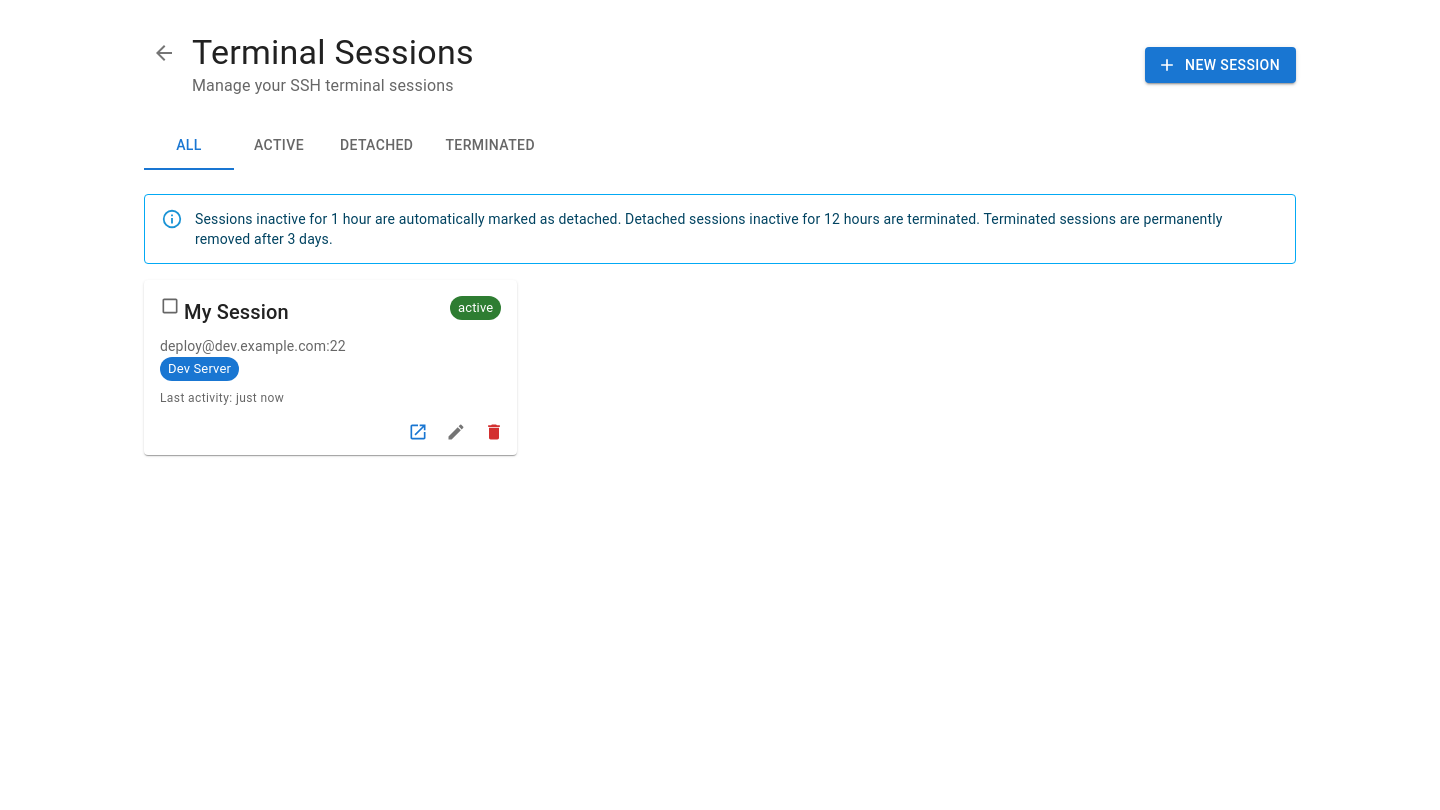
SessionsPage › Terminate session › should show error snackbar when termination fails
Click the button with test id "DeleteIcon". click: (494, 432)
box: [479,417,509,447]
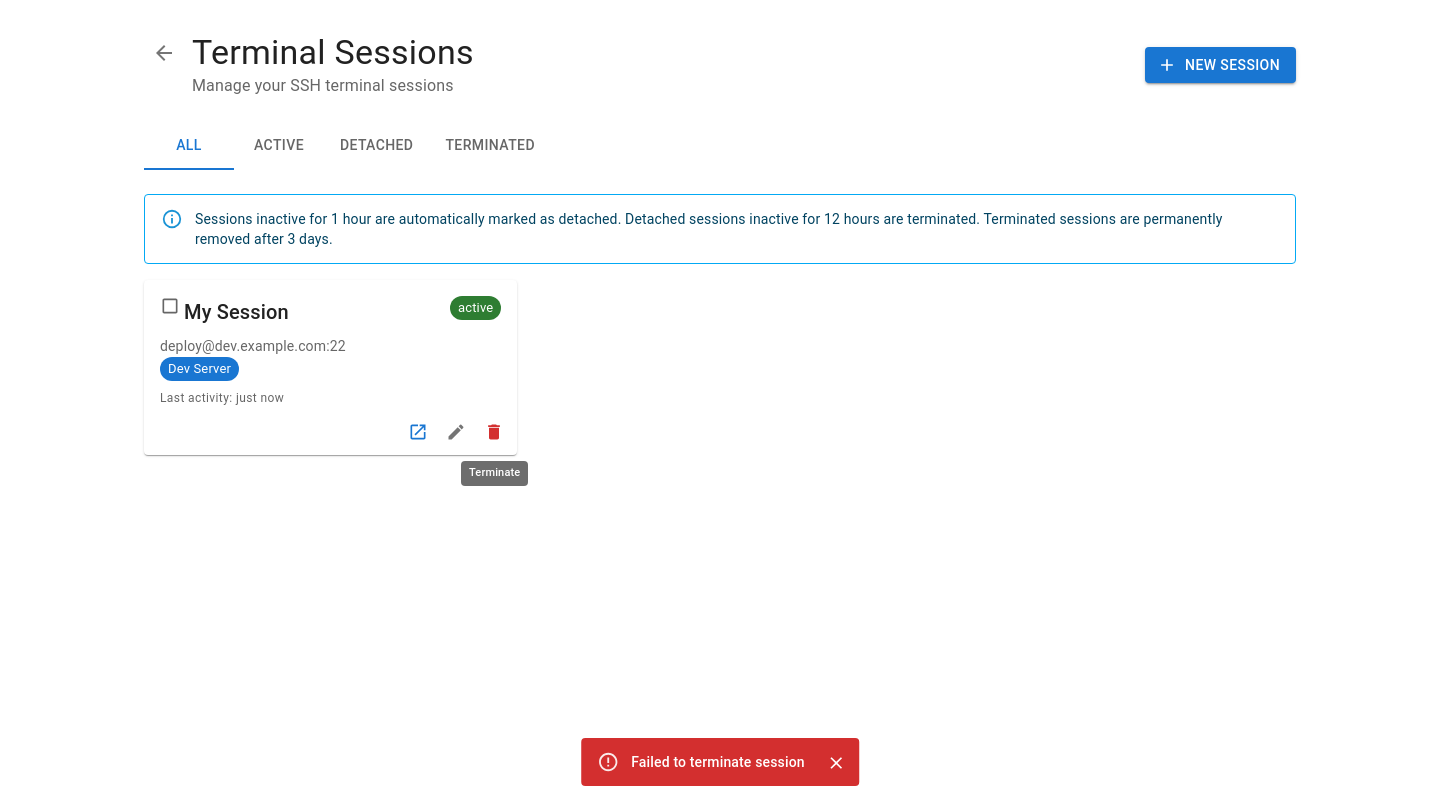
Now the text "Failed to terminate session" is shown, box [631,754,805,770]
